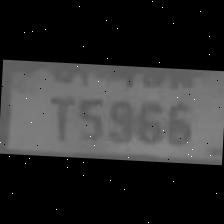5: (72, 92, 106, 142)
6: (160, 94, 195, 148), (132, 95, 164, 147)
9: (103, 93, 136, 144)
T: (40, 89, 75, 143)
